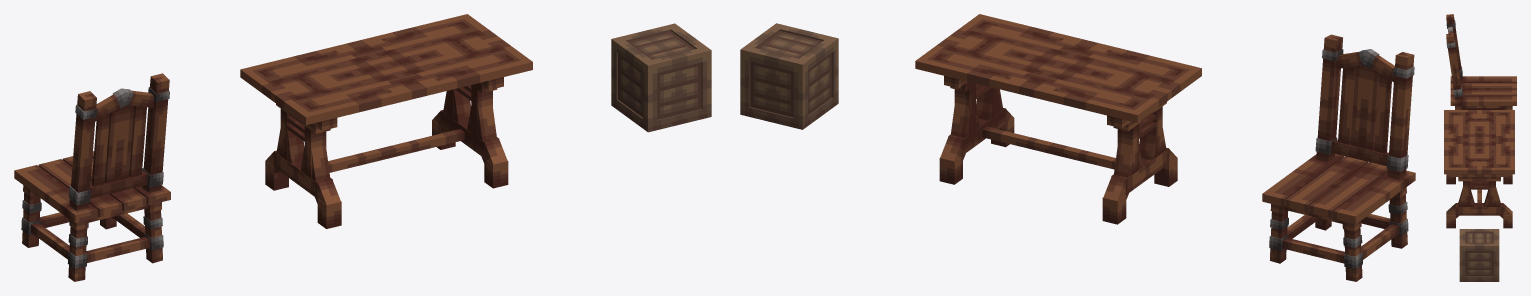
Rendered from free_medieval_starter_pack.original.glb.
3 views of the same model, side by side, from view 1: azimuth 30°, elevation 25°; view 2: azimuth 150°, elevation 25°; view 3: azimuth 270°, elevation 25° (orthographic). The views are drawn at different scales.
Visible parts, largest first — view 1: table, WOODEN CHAIR, small_crate; view 2: table, WOODEN CHAIR, small_crate; view 3: table, WOODEN CHAIR, small_crate.
Part boxes in pixels (left/top/right/bottom): table: left=240, top=14, right=532, bottom=228; WOODEN CHAIR: left=14, top=73, right=170, bottom=281; small_crate: left=611, top=23, right=711, bottom=132; table: left=915, top=14, right=1201, bottom=224; WOODEN CHAIR: left=1262, top=34, right=1415, bottom=281; small_crate: left=740, top=23, right=838, bottom=129; table: left=1444, top=110, right=1514, bottom=228; WOODEN CHAIR: left=1446, top=14, right=1516, bottom=109; small_crate: left=1459, top=229, right=1499, bottom=281.
Bounding box in the file's own units: 5.32 × 1.49 × 0.9625.
Materials: 3 (3 with a texture image).
